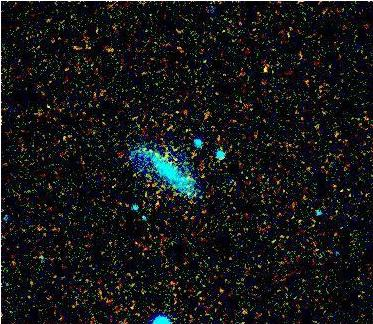star: (246, 55, 276, 85)
